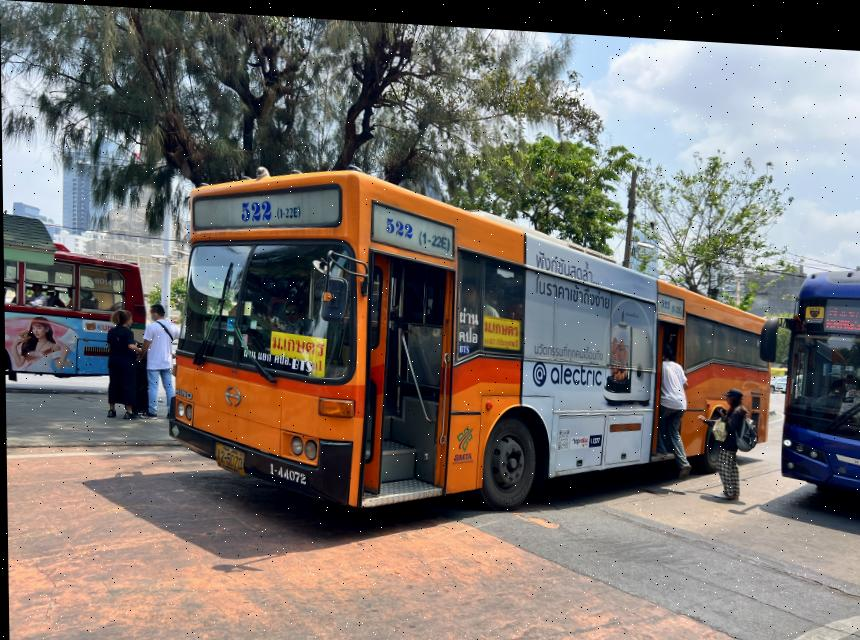BMTA-bus: (166, 166, 769, 507)
Bus Line Number: (379, 207, 453, 254), (235, 194, 304, 223)
Bus Side Number: (265, 458, 308, 483)
Destination Sign: (268, 329, 325, 375), (822, 291, 860, 322)
TSB-Bus: (778, 262, 860, 505)
